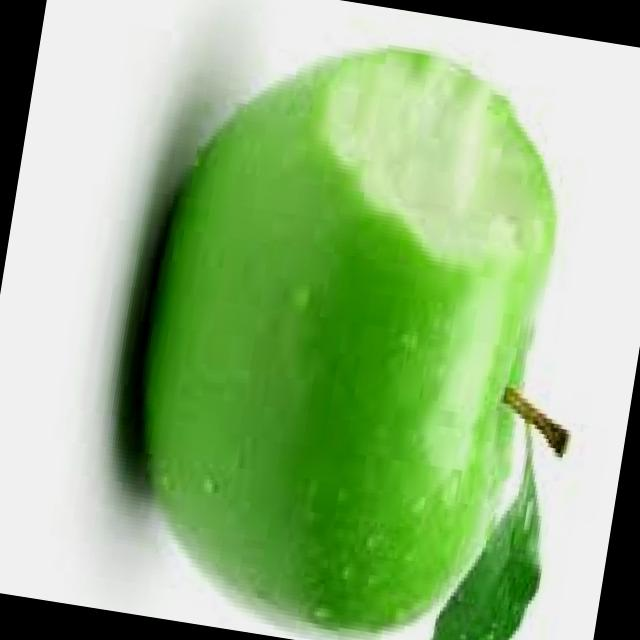Used Apple: (104, 12, 580, 640)
